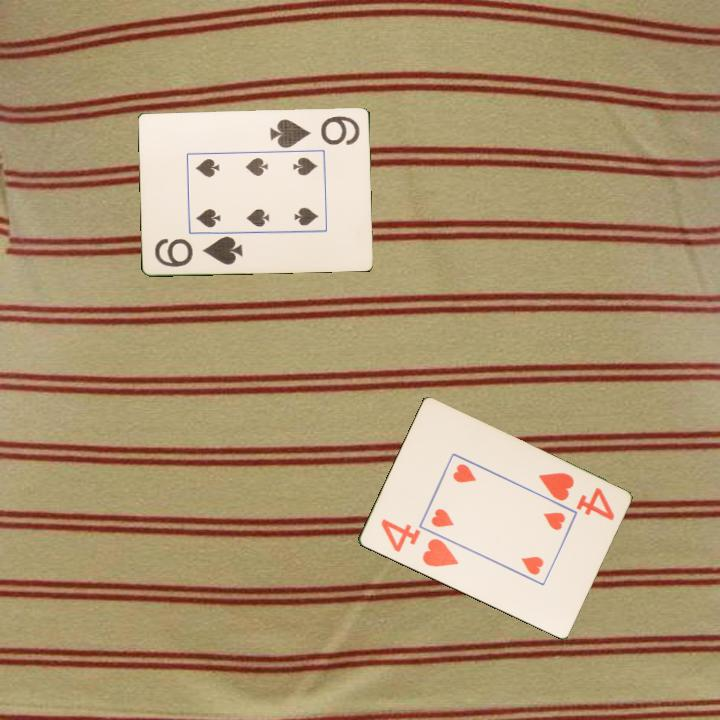4h: (377, 515, 461, 570), (534, 469, 617, 524)
6s: (267, 112, 363, 150), (151, 232, 246, 269)
